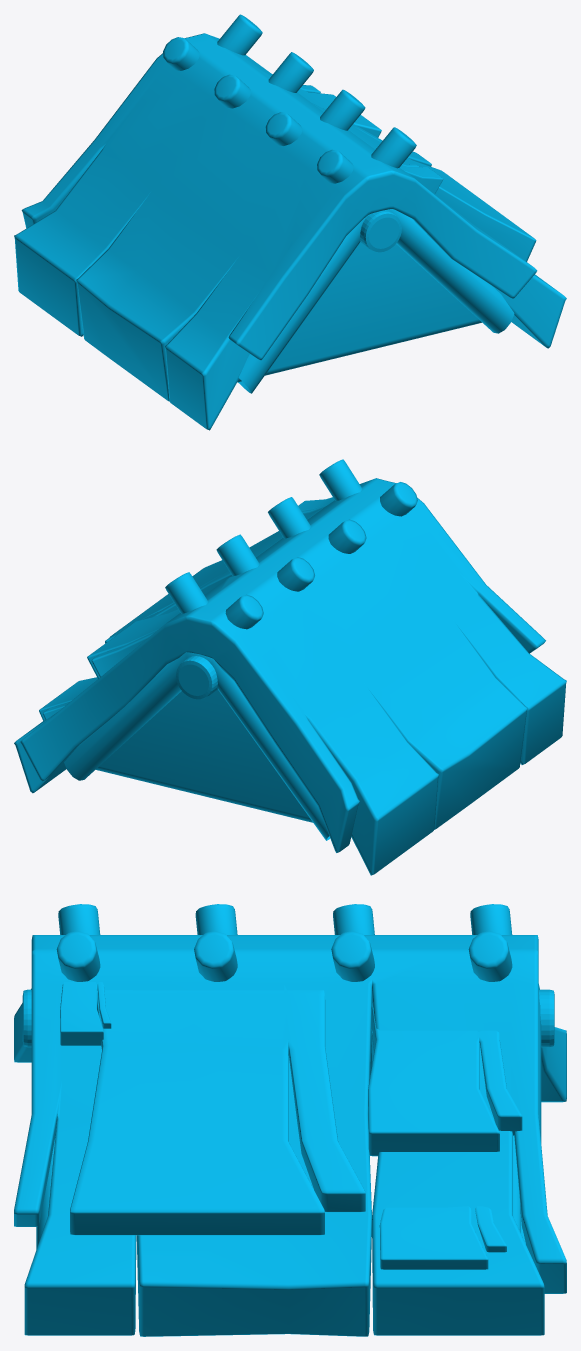
Rendered from SM_Clay_Roof_06.fbx.
The picture shows the model from 3 angles, top to bottom: view 1: azimuth 30°, elevation 25°; view 2: azimuth 150°, elevation 25°; view 3: azimuth 270°, elevation 25°; orthographic projection. The views are drawn at different scales.
Parts seen in each view (by area): view 1: SM_Clay_Roof_06; view 2: SM_Clay_Roof_06; view 3: SM_Clay_Roof_06.
Part boxes in pixels (box(x1,y1,x2,y2)): SM_Clay_Roof_06: box(14, 14, 566, 430); SM_Clay_Roof_06: box(14, 459, 566, 875); SM_Clay_Roof_06: box(14, 904, 566, 1336).
Bounding box in the file's own units: 1.03 × 0.6502 × 1.01.
